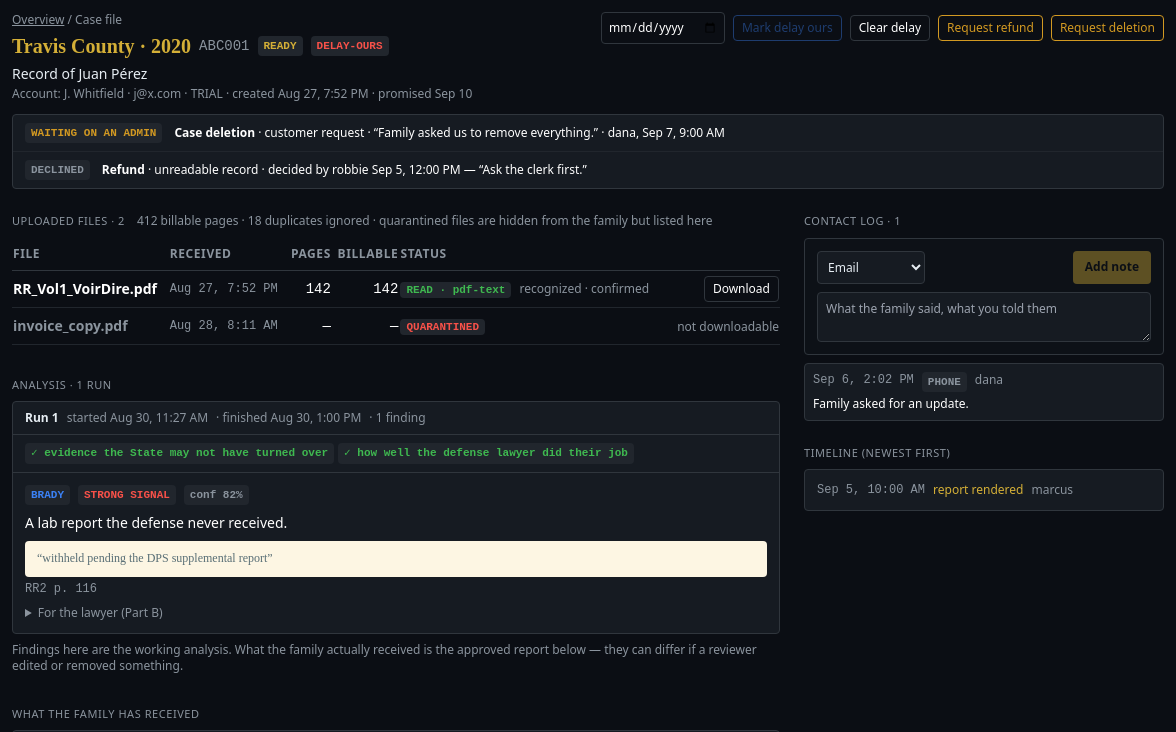
it: case file › contact log: shows past notes with the decision history, and posts a new note
The width and height of the screenshot is (1176, 732).
Expected: the element with test id "contact-log" shows "Family asked for an update.", [813,394,969,412]
Expected: the element with test id "contact-log" shows "PHONE", [928,376,961,388]
Select "Email" in the dropdown named "Contact channel" at (871, 267), box [817,250,925,284]
Type "Sent the clerk instructions." into the text box named "Note" at (984, 316), box [817,292,1151,342]
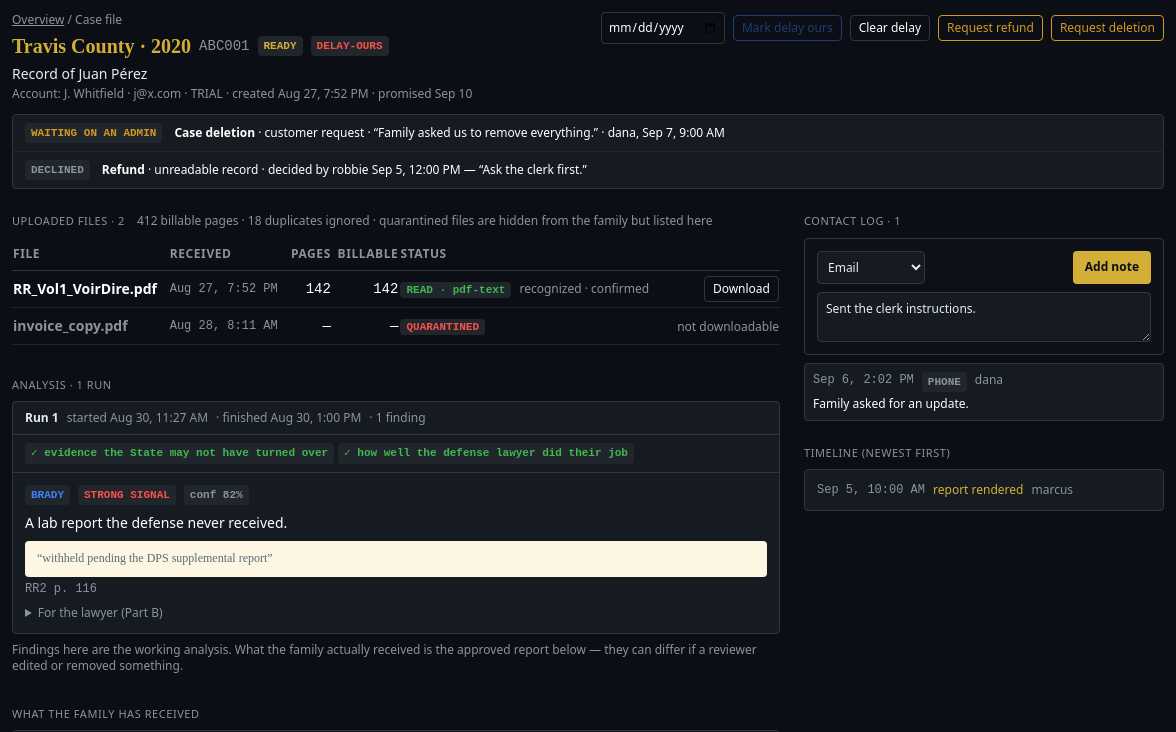
Click the button with test id "add-note" at (1112, 267), box [1073,250,1151,284]
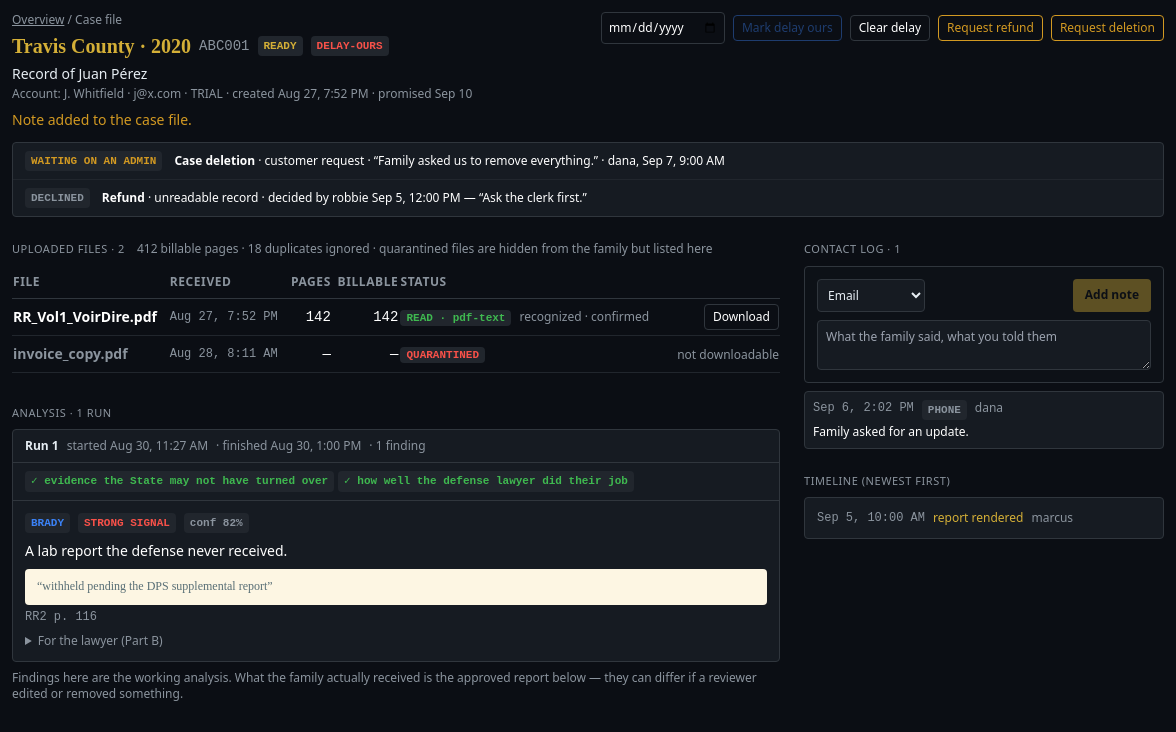
Now the text with test id "notice" shows "Note added", box [12,110,192,129]
